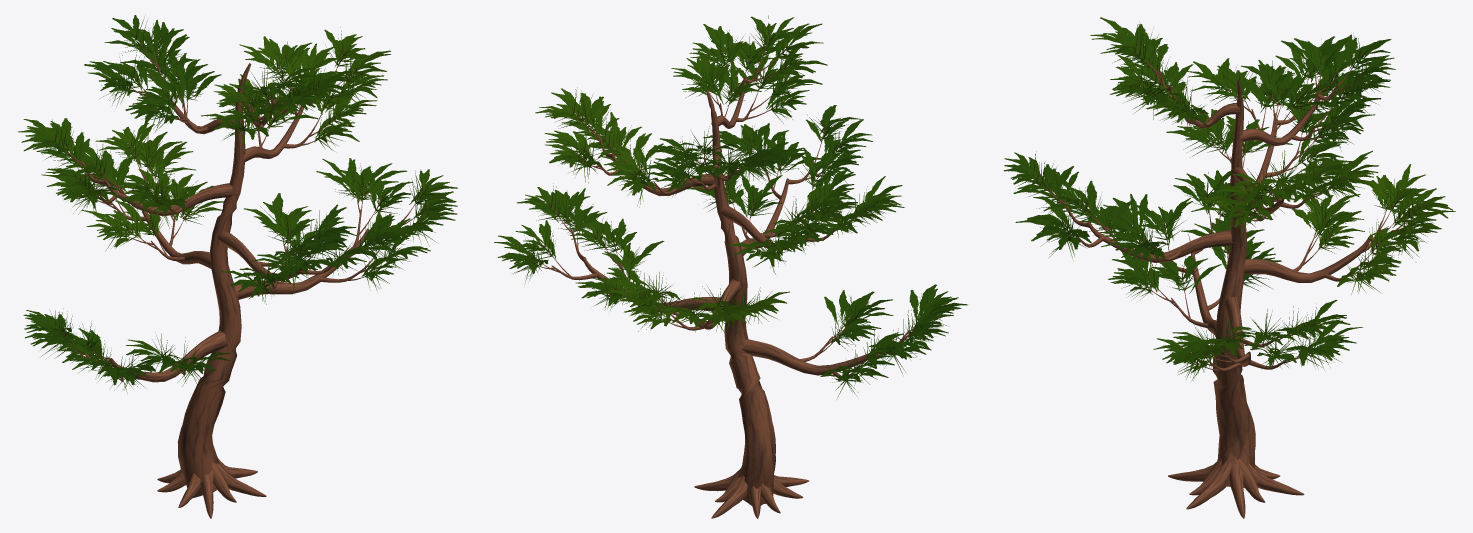
File: detailed-pine.glb
3 renders of one model, left to right at view 1: azimuth 30°, elevation 25°; view 2: azimuth 150°, elevation 25°; view 3: azimuth 270°, elevation 25°, orthographic. The views are drawn at different scales.
Visible parts, largest first — view 1: WindCrown, PineRootAndTrunk, PineBoughs; view 2: WindCrown, PineRootAndTrunk, PineBoughs; view 3: WindCrown, PineBoughs, PineRootAndTrunk.
Part boxes in pixels (bbox=[...]): WindCrown: bbox=[18, 15, 457, 393]; PineRootAndTrunk: bbox=[157, 63, 266, 518]; PineBoughs: bbox=[66, 51, 414, 382]; WindCrown: bbox=[494, 15, 967, 399]; PineRootAndTrunk: bbox=[694, 90, 809, 518]; PineBoughs: bbox=[540, 53, 914, 380]; WindCrown: bbox=[1003, 17, 1455, 380]; PineBoughs: bbox=[1044, 61, 1406, 371]; PineRootAndTrunk: bbox=[1168, 79, 1304, 518].
Bounding box in the file's own units: 0.9964 × 1 × 0.8566.
4 materials, 4 textured.
